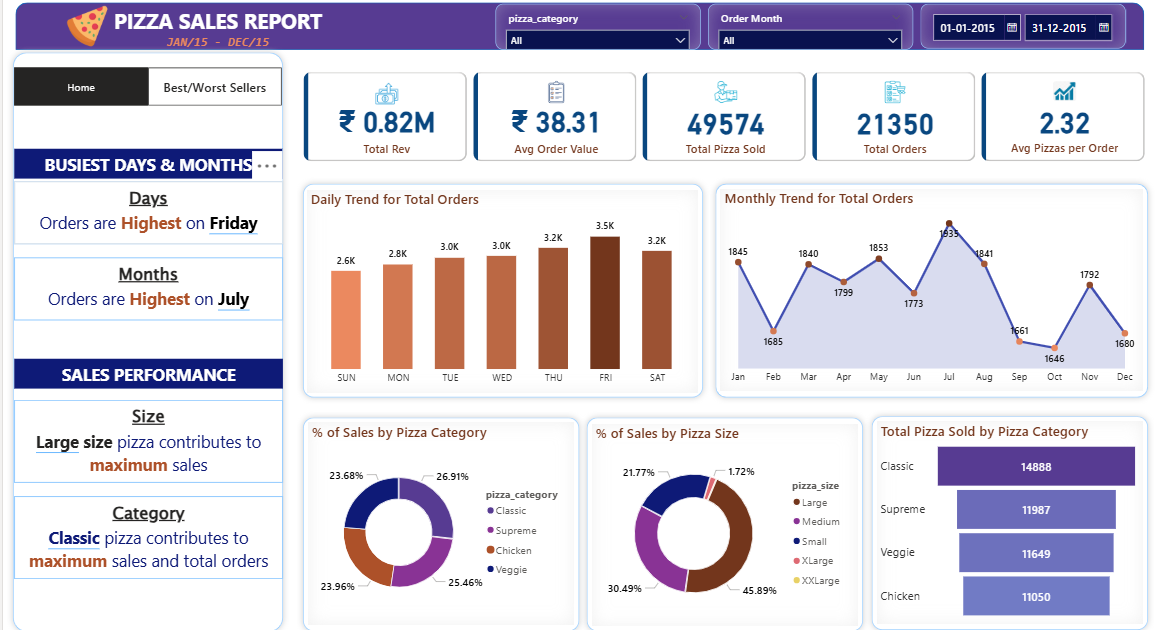

The page's visual inventory and layout, read from the dashboard file:
{"tool":"powerbi","page":{"name":"Home","canvas":[1500,820],"ordinal":0},"visuals":[{"type":"shape","box":[16.1,2.4,1452.1,61.1],"z":0},{"type":"shape","box":[377.9,229,530.7,291.1],"z":1000},{"type":"columnChart","title":"Daily Trend for Total Orders","fields":{"Category":["pizza_sales.Order Day"],"Y":["pizza_sales.Total Orders"]},"box":[390.8,245.1,503.3,260.5],"z":2000},{"type":"shape","box":[908.6,229,572.5,291.1],"z":3000},{"type":"areaChart","title":"Monthly Trend for Total Orders","fields":{"Y":["pizza_sales.Total Orders"],"Category":["pizza_sales.Order Month"]},"box":[923,243.5,543.5,260.5],"z":4000},{"type":"shape","box":[377.9,528.9,371.5,291.1],"z":5000},{"type":"donutChart","title":"% of Sales by Pizza Category","fields":{"Category":["pizza_sales.pizza_category"],"Y":["pizza_sales.Total Rev"]},"box":[392.4,543.5,342.5,260.5],"z":6000},{"type":"shape","box":[742.9,528.9,371.5,291.1],"z":7000},{"type":"shape","box":[1109.2,526.7,371.5,291.1],"z":8000},{"type":"funnel","title":"Total Pizza Sold by Pizza Category","fields":{"Category":["pizza_sales.pizza_category"],"Y":["pizza_sales.Total Pizza Sold"]},"box":[1124,541.9,342.5,260.5],"z":9000},{"type":"donutChart","title":"% of Sales by Pizza Size","fields":{"Category":["pizza_sales.pizza_size"],"Y":["pizza_sales.Total Rev"]},"box":[757.4,545.1,342.5,260.5],"z":10000},{"type":"shape","box":[4.8,59.5,363.4,761],"z":11000},{"type":"textbox","box":[14.5,192,345,38.6],"z":12000},{"type":"textbox","box":[14.5,233.8,345.7,80.4],"z":13000},{"type":"textbox","box":[14.5,331.9,345.7,80.4],"z":14000},{"type":"textbox","box":[14.5,462.1,345.7,38.6],"z":15000},{"type":"textbox","box":[14.5,515.2,345.7,106.1],"z":16000},{"type":"textbox","box":[14.5,639,345.7,106.1],"z":17000},{"type":"pageNavigator","box":[14.5,86.8,172.1,49.9],"z":18000},{"type":"pageNavigator","box":[186.5,86.8,172.1,49.9],"z":19000},{"type":"textbox","box":[137.1,3.2,279.8,49.9],"z":20000},{"type":"textbox","box":[204,40.1,144.7,28.9],"z":21000},{"type":"image","box":[79.2,6.4,59.5,54.7],"z":22000},{"type":"slicer","fields":{"Values":["pizza_sales.Order Month"]},"box":[906.9,4.8,263.7,59.5],"z":23000},{"type":"slicer","fields":{"Values":["pizza_sales.order_date"]},"box":[1180.3,4.8,263.7,57.9],"z":24000},{"type":"slicer","fields":{"Values":["pizza_sales.pizza_category"]},"box":[633.6,4.8,263.7,59.5],"z":25000},{"type":"cardVisual","fields":{"Data":["pizza_sales.Total Rev","pizza_sales.Avg Order Value","pizza_sales.Total Pizza Sold","pizza_sales.Total Orders","pizza_sales.Avg Pizzas per Order"]},"box":[369.9,75.6,1117.6,149.6],"z":26000}]}

Visuals, with their boxes in screenshot pixels (x1, y1, x2, y2), scaled from the page's 1500x820 canvas onto the 1158x630 screenshot:
shape: detection(12, 2, 1133, 49)
shape: detection(292, 176, 701, 400)
"Daily Trend for Total Orders" columnChart: detection(302, 188, 690, 388)
shape: detection(701, 176, 1143, 400)
"Monthly Trend for Total Orders" areaChart: detection(713, 187, 1132, 387)
shape: detection(292, 406, 579, 629)
"% of Sales by Pizza Category" donutChart: detection(303, 418, 567, 618)
shape: detection(574, 406, 860, 629)
shape: detection(856, 405, 1143, 628)
"Total Pizza Sold by Pizza Category" funnel: detection(868, 416, 1132, 616)
"% of Sales by Pizza Size" donutChart: detection(585, 419, 849, 619)
shape: detection(4, 46, 284, 629)
textbox: detection(11, 148, 278, 177)
textbox: detection(11, 180, 278, 241)
textbox: detection(11, 255, 278, 317)
textbox: detection(11, 355, 278, 385)
textbox: detection(11, 396, 278, 477)
textbox: detection(11, 491, 278, 572)
pageNavigator: detection(11, 67, 144, 105)
pageNavigator: detection(144, 67, 277, 105)
textbox: detection(106, 2, 322, 41)
textbox: detection(157, 31, 269, 53)
image: detection(61, 5, 107, 47)
slicer - pizza_sales.Order Month: detection(700, 4, 904, 49)
slicer - pizza_sales.order_date: detection(911, 4, 1115, 48)
slicer - pizza_sales.pizza_category: detection(489, 4, 693, 49)
cardVisual - pizza_sales.Total Rev x pizza_sales.Avg Order Value: detection(286, 58, 1148, 173)
